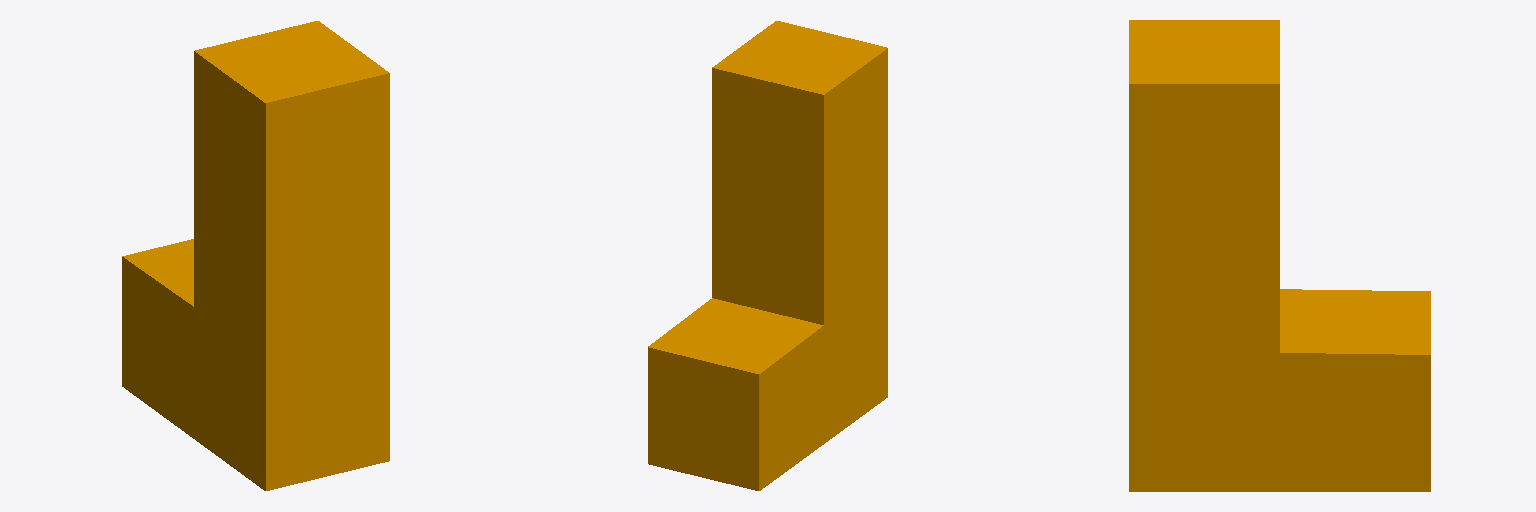
robot.urdf — 2_3L_5:
<robot name="2_3L_5">
  <link name="link">
    <visual>
      <geometry>
        <mesh filename="2_3L_5.obj" scale="1 1 1"/>
      </geometry>
    </visual>
    <collision>
      <geometry>
        <mesh filename="2_3L_5.obj" scale="1 1 1"/>
      </geometry>
    </collision>
    <inertial>
      <mass value="1"/>
      <inertia ixx="1" iyy="1" izz="1" ixy="0" ixz="0" iyz="0"/>
      <origin xyz="0 0 0" rpy="0 0 0"/>
    </inertial>
  </link>
</robot>

--- Render facts (derived) ---
3 views of the same robot in one strip: view 1: azimuth 30°, elevation 25°; view 2: azimuth 150°, elevation 25°; view 3: azimuth 270°, elevation 25° (orthographic).
Model 2_3L_5 with 1 links and 0 joints (none), rooted at link, posed every joint at zero.
Links seen in each view (by area): view 1: link; view 2: link; view 3: link.
Link boxes in pixels (x1,y1,x2,y2): link: (122,21,389,490); link: (648,21,887,490); link: (1129,20,1430,491).
Size in the robot's own frame: 0.0592 by 0.1184 by 0.1767 metres.
1 mesh visuals loaded from 1 distinct referenced files (1 OBJ).